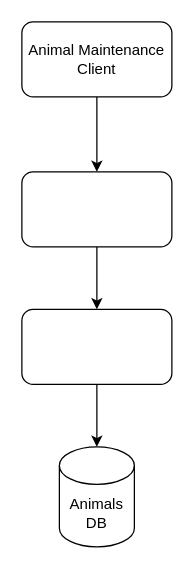
The diagram is 194 pixels wide and 569 high, and some of its shapes have lost their labels. The shapes that lost their labels are listed below. From the top down, each one's box as (x1, y1, x2, y2) in pixels, then its label:
(21, 171, 172, 247): Animal Maintenance Manager
(21, 308, 172, 384): Animal Maintenance Accessor
